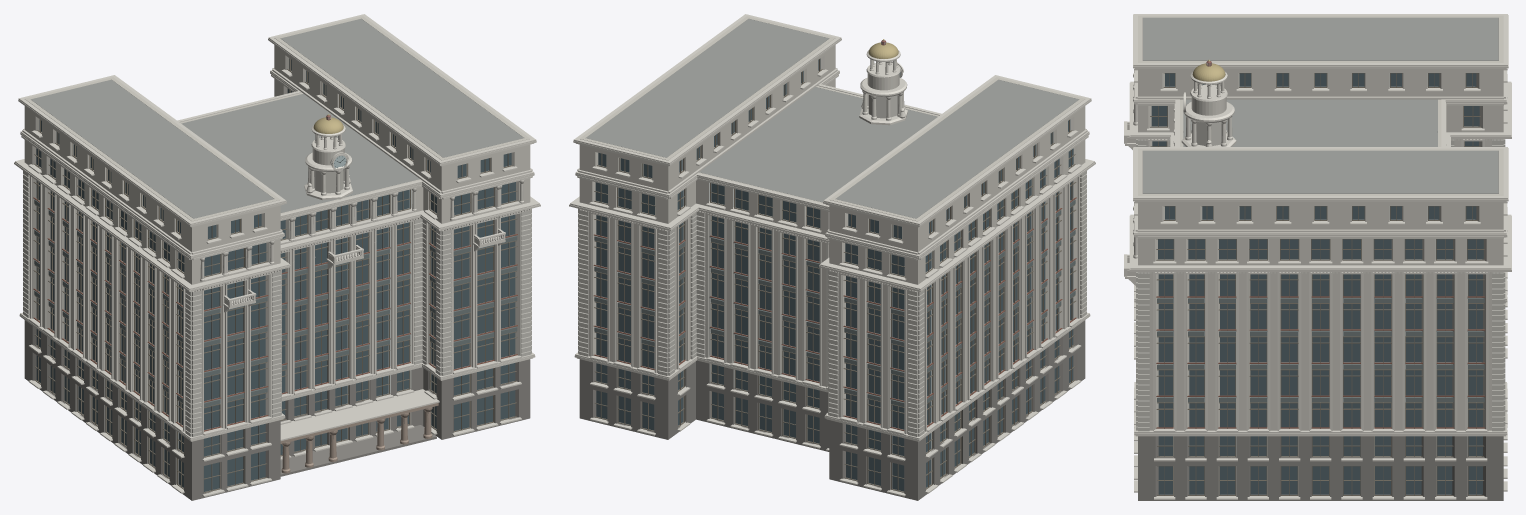
File: huangpu-pacific-hotel-raw.glb
The picture shows the model from 3 angles, left to right: view 1: azimuth 30°, elevation 25°; view 2: azimuth 150°, elevation 25°; view 3: azimuth 270°, elevation 25°; orthographic projection. The views are drawn at different scales.
Parts seen in each view (by area): view 1: Pacific Hotel / Hua’an Building main historical exterior; view 2: Pacific Hotel / Hua’an Building main historical exterior; view 3: Pacific Hotel / Hua’an Building main historical exterior.
Boxes of the visible parts, x1,y1,x2,y2 form: Pacific Hotel / Hua’an Building main historical exterior: (14,14,540,500); Pacific Hotel / Hua’an Building main historical exterior: (569,14,1095,500); Pacific Hotel / Hua’an Building main historical exterior: (1124,14,1511,500).
Bounding box in the file's own units: 43.64 × 38.16 × 38.19.
